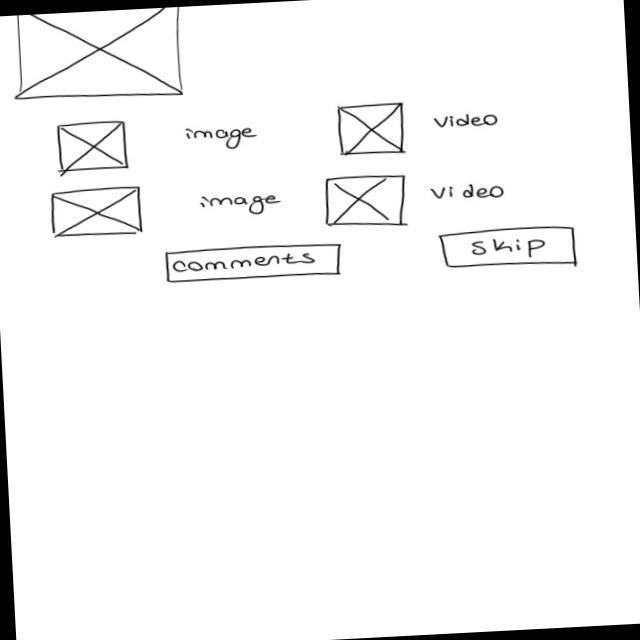button: (163, 242, 345, 287), (440, 224, 580, 272)
image: (10, 8, 190, 106), (49, 186, 146, 241), (325, 173, 410, 232), (56, 120, 132, 175), (336, 102, 408, 158)
label: (199, 191, 283, 220), (184, 123, 260, 153), (430, 181, 507, 204), (434, 112, 501, 133)
